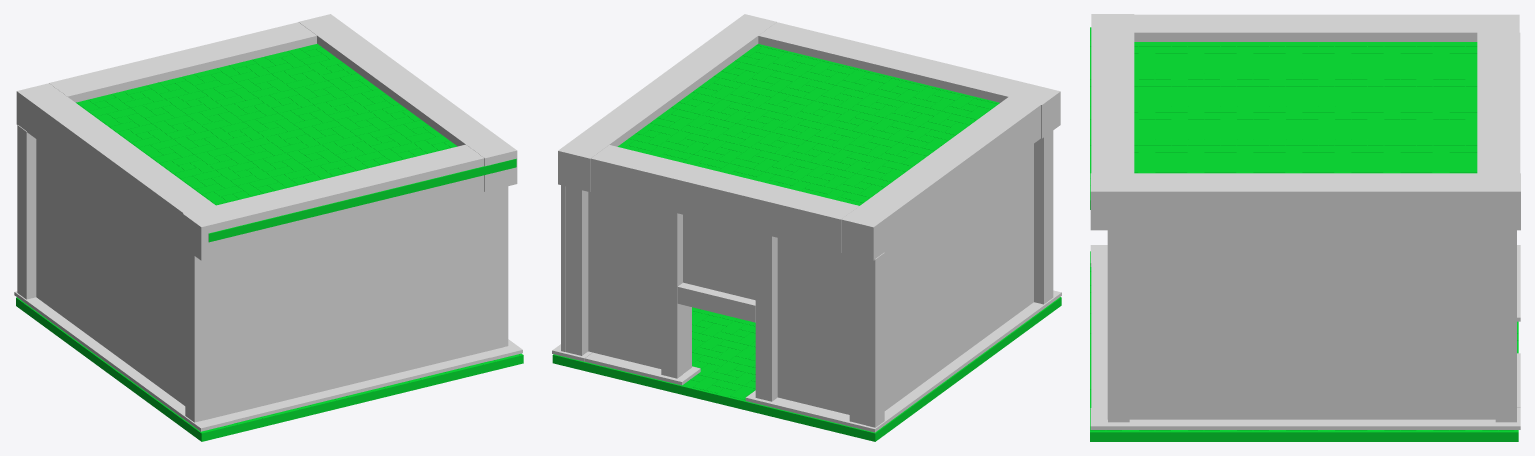
The picture shows the model from 3 angles, left to right: view 1: azimuth 30°, elevation 25°; view 2: azimuth 150°, elevation 25°; view 3: azimuth 270°, elevation 25°; orthographic projection. The views are drawn at different scales.
Parts seen in each view (by area): view 1: Cube.029, Floor.003, Cube.055, Cube.062, Cube.058, Cube.063, Cube.057, Floor.002, Cube.060, Cube.064, Cube.068, Cube.059 (+4 smaller); view 2: Floor.003, Cube.056, Cube.055, Floor.002, Cube.057, Cube.062, Cube.063, Cube.058, Cube.061, Cube.054, Cube.066, Cube.065 (+9 smaller); view 3: Cube.054, Floor.003, Cube.063, Cube.062, Cube.026, Cube.058, Cube.057, Floor.002, Cube.050, Cube.069, Cube.070, Cube.051.
Boxes of the visible parts, left/top/right/bottom form: Cube.029: left=204, top=187, right=503, bottom=420; Floor.003: left=76, top=43, right=516, bottom=242; Cube.055: left=36, top=139, right=185, bottom=405; Cube.062: left=16, top=83, right=215, bottom=228; Cube.058: left=182, top=144, right=484, bottom=243; Cube.063: left=299, top=14, right=517, bottom=170; Cube.057: left=49, top=22, right=316, bottom=102; Floor.002: left=16, top=297, right=523, bottom=441; Cube.060: left=182, top=175, right=484, bottom=260; Cube.064: left=17, top=125, right=36, bottom=299; Cube.068: left=185, top=249, right=204, bottom=422; Cube.059: left=16, top=108, right=182, bottom=245; Floor.003: left=617, top=44, right=999, bottom=205; Cube.056: left=588, top=192, right=849, bottom=414; Cube.055: left=849, top=144, right=1033, bottom=424; Floor.002: left=552, top=297, right=1061, bottom=441; Cube.057: left=590, top=145, right=858, bottom=236; Cube.062: left=841, top=97, right=1040, bottom=243; Cube.063: left=558, top=14, right=776, bottom=175; Cube.058: left=758, top=22, right=1060, bottom=121; Cube.061: left=590, top=175, right=841, bottom=252; Cube.054: left=565, top=186, right=588, bottom=355; Cube.066: left=755, top=232, right=777, bottom=401; Cube.065: left=661, top=209, right=682, bottom=378; Cube.054: left=1129, top=230, right=1495, bottom=419; Floor.003: left=1090, top=27, right=1477, bottom=209; Cube.063: left=1090, top=173, right=1520, bottom=210; Cube.062: left=1133, top=14, right=1519, bottom=41; Cube.026: left=1090, top=210, right=1520, bottom=230; Cube.058: left=1091, top=14, right=1134, bottom=173; Cube.057: left=1477, top=32, right=1520, bottom=173; Floor.002: left=1090, top=251, right=1518, bottom=441; Cube.050: left=1090, top=408, right=1520, bottom=429; Cube.069: left=1108, top=230, right=1129, bottom=422; Cube.070: left=1495, top=230, right=1516, bottom=422; Cube.051: left=1091, top=262, right=1107, bottom=407.
Bounding box in the file's own units: 2 × 2 × 1.27.
